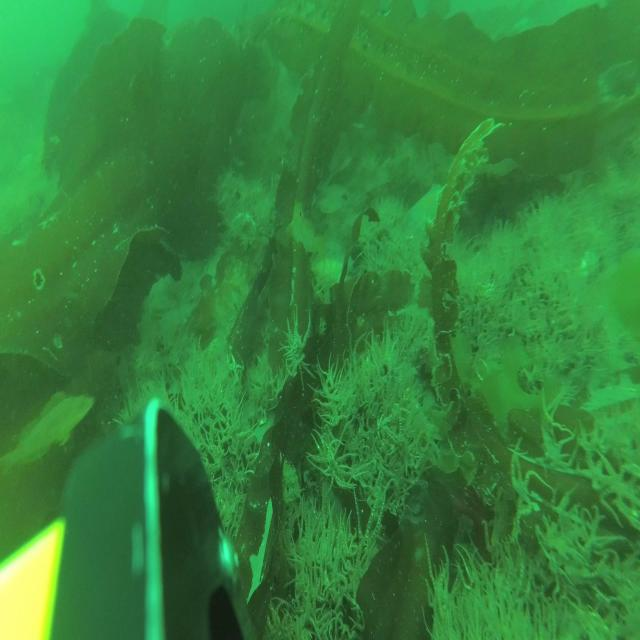starfish: (414, 184, 451, 230)
